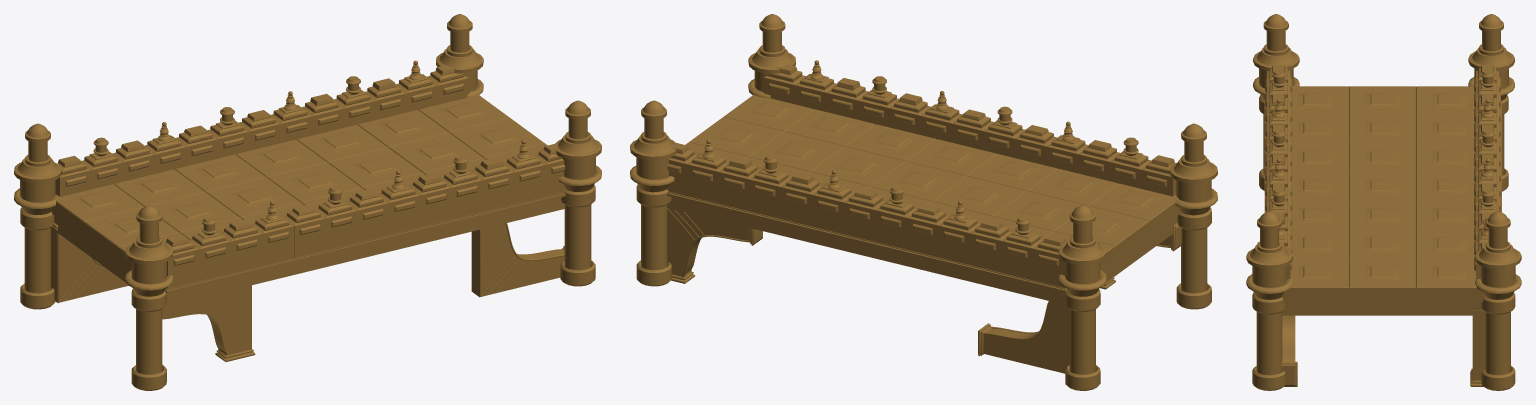
File: Puente_FBX.FBX
The picture shows the model from 3 angles, left to right: view 1: azimuth 30°, elevation 25°; view 2: azimuth 150°, elevation 25°; view 3: azimuth 270°, elevation 25°; orthographic projection. The views are drawn at different scales.
Visible parts, largest first — view 1: Object004, Object003, Object002, Cylinder001, Cylinder037, Cylinder034, Box058, Box093, Box087, Box099, Cylinder039, Box059 (+46 smaller); view 2: Object002, Object001, Cylinder034, Cylinder037, Cylinder071, Box060, Box059, Box099, Cylinder036, Box093, Box087, Box096 (+45 smaller); view 3: Box099, Box098, Box100, Cylinder001, Cylinder071, Box090, Box087, Box059, Box084, Box093, Box096, Cylinder073 (+46 smaller).
Boxes of the visible parts, x1=… form: Object004: x1=471, y1=223, x2=564, y2=297; Object003: x1=162, y1=285, x2=255, y2=361; Object002: x1=51, y1=223, x2=128, y2=302; Cylinder001: x1=560, y1=185, x2=595, y2=286; Cylinder037: x1=131, y1=289, x2=166, y2=390; Cylinder034: x1=20, y1=208, x2=55, y2=309; Box058: x1=51, y1=184, x2=143, y2=236; Box093: x1=328, y1=147, x2=422, y2=187; Box087: x1=206, y1=177, x2=300, y2=217; Box099: x1=450, y1=118, x2=544, y2=158; Cylinder039: x1=125, y1=239, x2=172, y2=296; Box059: x1=84, y1=207, x2=178, y2=262; Object002: x1=978, y1=301, x2=1069, y2=373; Object001: x1=667, y1=208, x2=762, y2=283; Cylinder034: x1=1065, y1=289, x2=1100, y2=390; Cylinder037: x1=1176, y1=208, x2=1211, y2=309; Cylinder071: x1=636, y1=185, x2=671, y2=286; Box060: x1=1089, y1=183, x2=1180, y2=235; Box059: x1=1054, y1=206, x2=1149, y2=261; Box099: x1=689, y1=117, x2=783, y2=157; Cylinder036: x1=1058, y1=239, x2=1106, y2=296; Box093: x1=811, y1=146, x2=905, y2=186; Box087: x1=933, y1=176, x2=1026, y2=216; Box096: x1=750, y1=131, x2=844, y2=171; Box099: x1=1349, y1=258, x2=1415, y2=302; Box098: x1=1416, y1=258, x2=1483, y2=302; Box100: x1=1282, y1=258, x2=1348, y2=302; Cylinder001: x1=1252, y1=292, x2=1286, y2=390; Cylinder071: x1=1481, y1=293, x2=1515, y2=390; Box090: x1=1349, y1=172, x2=1415, y2=201; Box087: x1=1349, y1=143, x2=1415, y2=172; Box059: x1=1349, y1=86, x2=1415, y2=114; Box084: x1=1349, y1=115, x2=1415, y2=143; Box093: x1=1349, y1=201, x2=1415, y2=229; Box096: x1=1349, y1=230, x2=1415, y2=258; Cylinder073: x1=1475, y1=245, x2=1521, y2=299.
Bounding box in the file's own units: 795 × 295 × 420.
